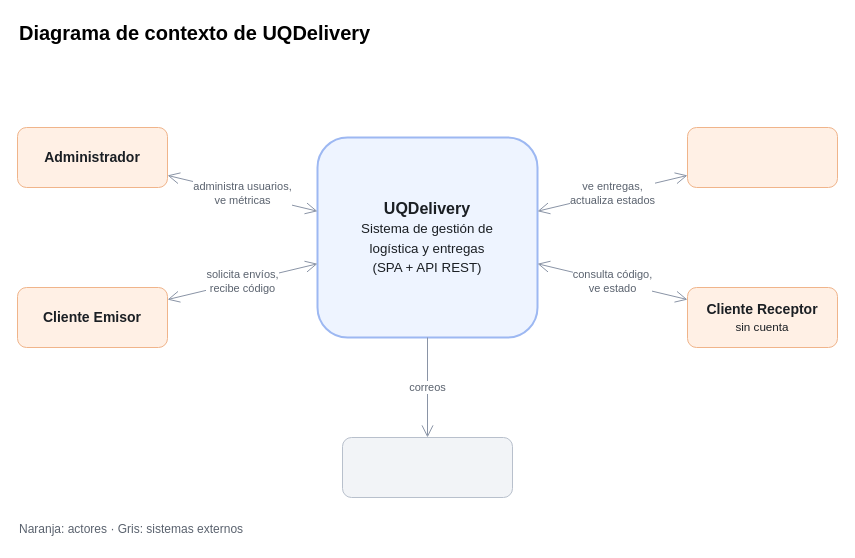
Some shapes in this 855 by 558 pixel diagram are drawn without their labels. Here are the shapes that lost their labels. From the top down, the box of each, then its label:
(686, 126, 838, 188): Repartidor
(342, 436, 512, 498): Brevo Servicio de correo SMTP
